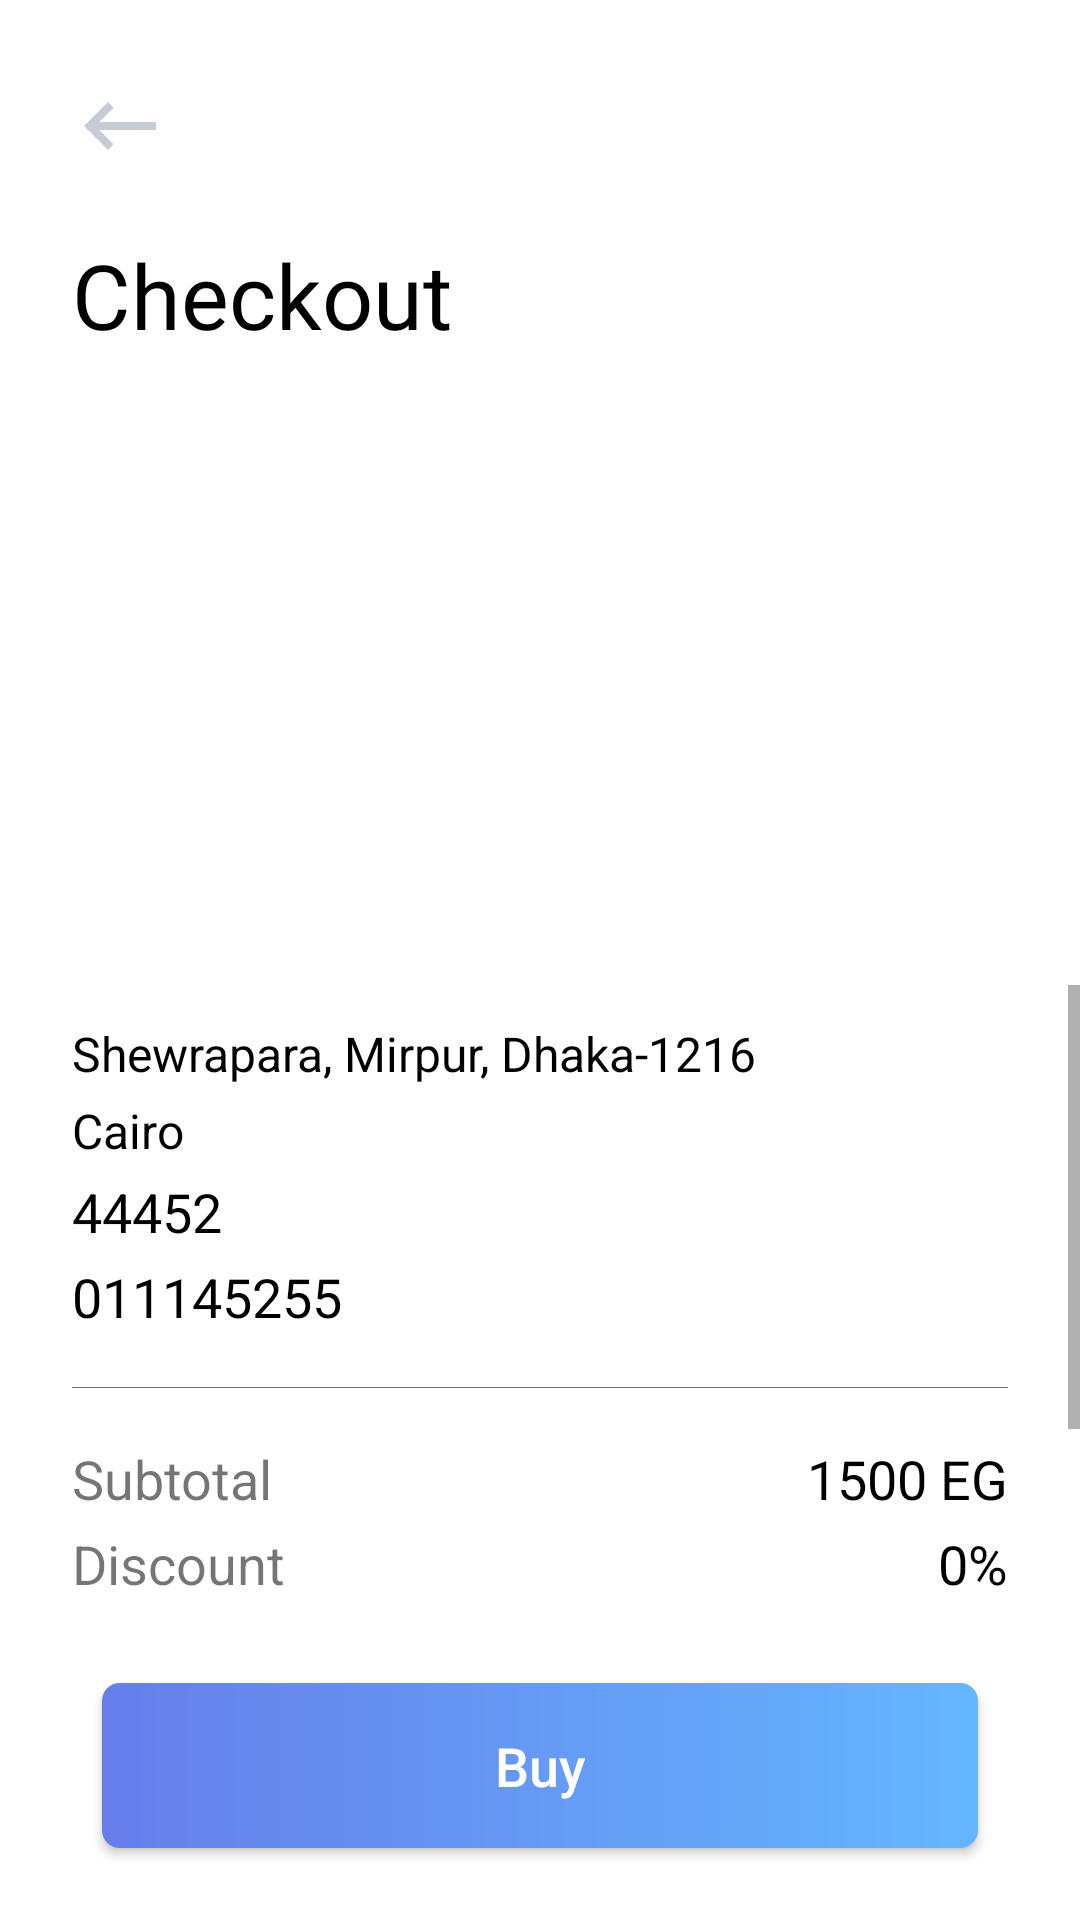

Where icons sit on this 1080w x 1920h app screen, as [x1, y1, x2, y2]:
keyboard backspace: [84, 102, 156, 150]
